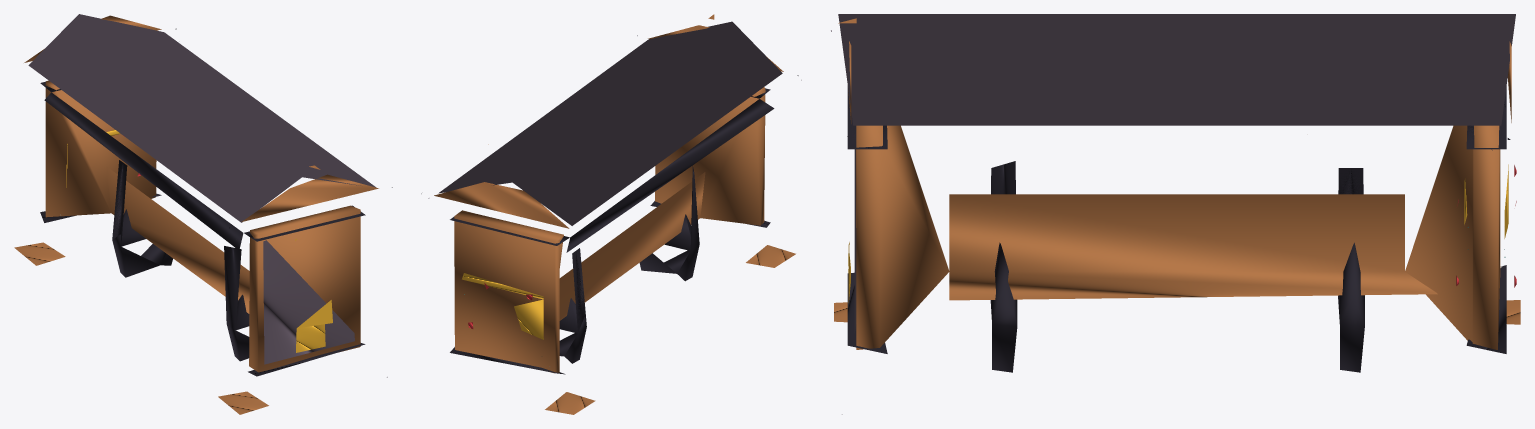
3 views of the same model, side by side, from view 1: azimuth 30°, elevation 25°; view 2: azimuth 150°, elevation 25°; view 3: azimuth 270°, elevation 25° (orthographic). The views are drawn at different scales.
Bounding box in the file's own units: 2.04 × 2.67 × 4.88.
